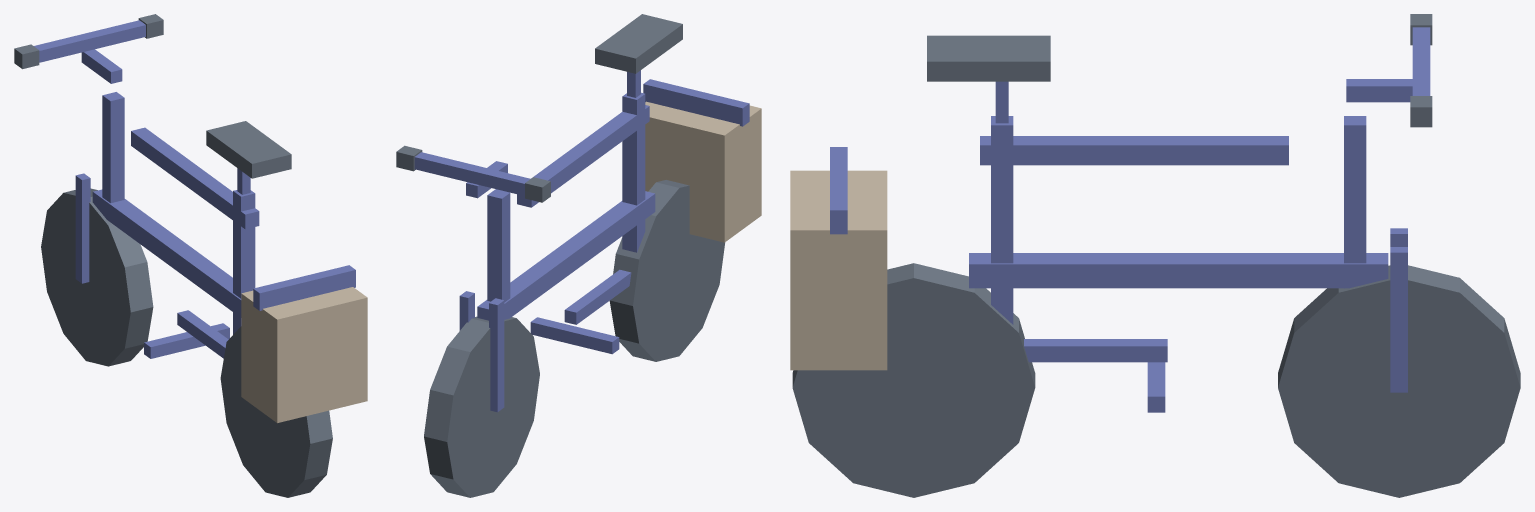
The model's file is bike_01.glb.
3 views of the same model, side by side, from view 1: azimuth 30°, elevation 25°; view 2: azimuth 150°, elevation 25°; view 3: azimuth 270°, elevation 25° (orthographic). The views are drawn at different scales.
Visible parts, largest first — view 1: bike_01; view 2: bike_01; view 3: bike_01.
Boxes of the visible parts, bbox=[...] form: bike_01: bbox=[14, 14, 367, 497]; bike_01: bbox=[396, 14, 761, 497]; bike_01: bbox=[790, 14, 1520, 497].
Bounding box in the file's own units: 0.5 × 1.11 × 1.65.
